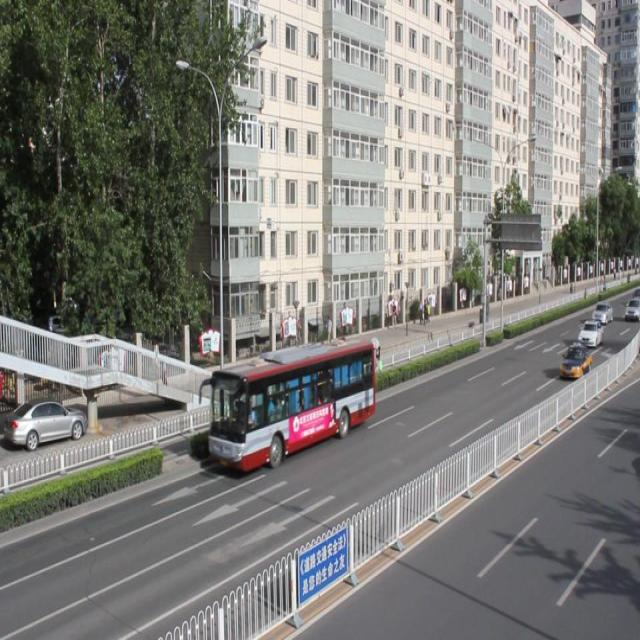car: (558, 342, 591, 380)
van: (209, 342, 375, 465)
